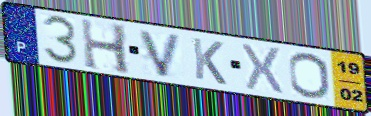3: (40, 14, 80, 66)
H: (79, 16, 134, 77)
K: (190, 36, 229, 87)
O: (287, 52, 333, 101)
V: (136, 27, 185, 79)
X: (240, 41, 285, 97)
